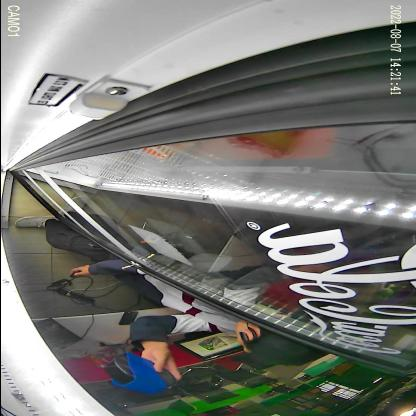blue: (105, 351, 176, 395)
